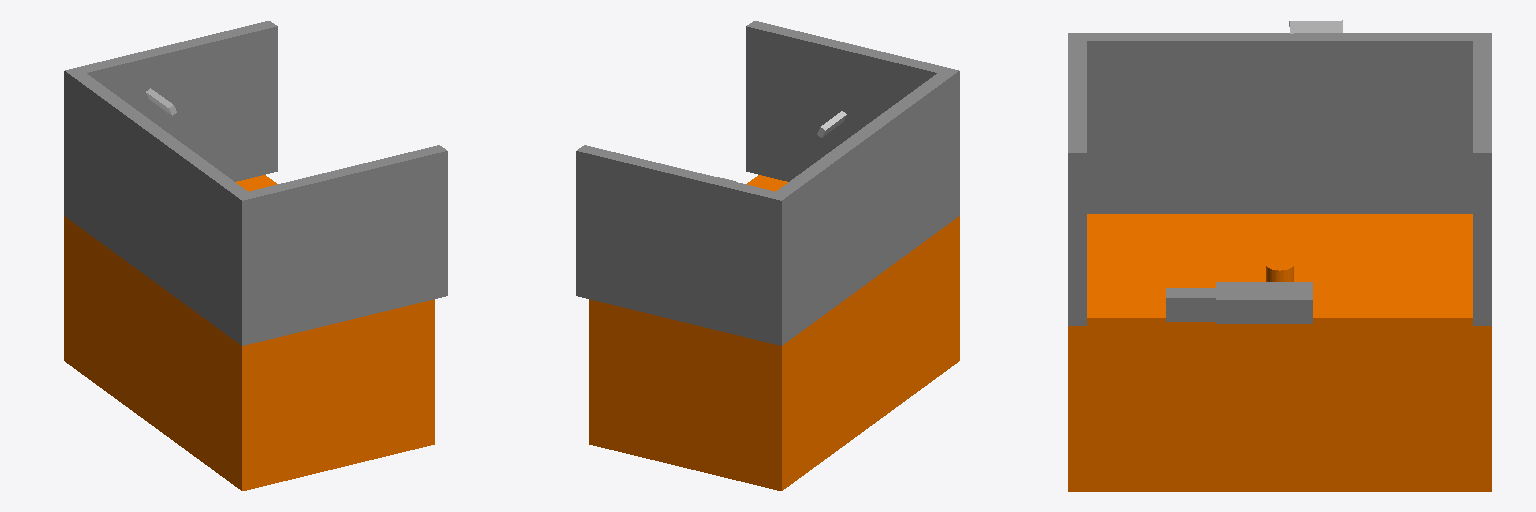
robot.urdf — ur5_workspace:
<?xml version="1.0" ?>
<!-- =================================================================================== -->
<!-- |    This document was autogenerated by xacro from ur5_workspace.xacro            | -->
<!-- |    EDITING THIS FILE BY HAND IS NOT RECOMMENDED                                 | -->
<!-- =================================================================================== -->
<robot name="ur5_workspace" xmlns:controller="http://playerstage.sourceforge.net/gazebo/xmlschema/#controller" xmlns:interface="http://playerstage.sourceforge.net/gazebo/xmlschema/#interface" xmlns:sensor="http://playerstage.sourceforge.net/gazebo/xmlschema/#sensor" xmlns:xacro="http://ros.org/wiki/xacro">
  <gazebo>
    <plugin filename="libgazebo_ros_controller_manager.so" name="gazebo_ros_controller_manager">
      <alwaysOn>true</alwaysOn>
      <updateRate>1000.0</updateRate>
    </plugin>
    <plugin filename="libgazebo_ros_power_monitor.so" name="gazebo_ros_power_monitor_controller">
      <alwaysOn>true</alwaysOn>
      <updateRate>1.0</updateRate>
      <timeout>5</timeout>
      <powerStateTopic>power_state</powerStateTopic>
      <powerStateRate>10.0</powerStateRate>
      <fullChargeCapacity>87.78</fullChargeCapacity>
      <dischargeRate>-474</dischargeRate>
      <chargeRate>525</chargeRate>
      <dischargeVoltage>15.52</dischargeVoltage>
      <chargeVoltage>16.41</chargeVoltage>
    </plugin>
  </gazebo>
  <material name="UR/Blue">
    <color rgba="0.0 0.0 0.8 1.0"/>
  </material>
  <material name="UR/Grey">
    <color rgba="0.7 0.7 0.7 1.0"/>
  </material>
  <material name="yellow_transparent">
    <color rgba="0 1 1 0.4"/>
  </material>
  <material name="orange_transparent">
    <color rgba="1 0.5 0 0.4"/>
  </material>
  <material name="gray_transparent">
    <color rgba="0.6 0.6 0.6 0.4"/>
  </material>
  <material name="blue_transparent">
    <color rgba="0 0.8 1 0.4"/>
  </material>
  <link name="world_frame"/>
  <!-- property list -->
  <!-- instantiating arm and gripper -->
  <link name="base_link">
    <visual>
      <geometry>
        <mesh filename="package://ur_description/meshes/ur5/visual/Base.dae"/>
      </geometry>
      <origin rpy="0.0 0.0 2.3561944875" xyz="0.0 0.0 0.003"/>
    </visual>
    <collision>
      <geometry>
        <mesh filename="package://ur_description/meshes/ur5/collision/Base.dae"/>
      </geometry>
      <!-- <origin rpy="0.0 0.0 0.0" xyz="0.0 0.0 -0.009159"/> -->
    </collision>
    <inertial>
      <mass value="4.0"/>
      <inertia ixx="1.0" ixy="0.0" ixz="0.0" iyy="1.0" iyz="0.0" izz="1.0"/>
    </inertial>
  </link>
  <joint name="shoulder_pan_joint" type="revolute">
    <parent link="base_link"/>
    <child link="shoulder_link"/>
    <origin rpy="0.0 0.0 0.0" xyz="0.0 0.0 0.089159"/>
    <axis xyz="0 0 1"/>
    <limit effort="10.0" lower="-6.2831853" upper="6.2831853" velocity="3.14159265"/>
    <dynamics damping="10" friction="0.1"/>
  </joint>
  <link name="shoulder_link">
    <visual>
      <geometry>
        <mesh filename="package://ur_description/meshes/ur5/visual/Shoulder.dae"/>
      </geometry>
    </visual>
    <collision>
      <geometry>
        <mesh filename="package://ur_description/meshes/ur5/collision/Shoulder.dae"/>
      </geometry>
      <!-- <origin rpy="0.0 0.0 0.0" xyz="0.0 0.0 -0.009159"/> -->
    </collision>
    <inertial>
      <mass value="3.7"/>
      <inertia ixx="1.0" ixy="0.0" ixz="0.0" iyy="1.0" iyz="0.0" izz="1.0"/>
      <origin rpy="0.0 0.0 0.0" xyz="0.0 0.00193 -0.02561"/>
    </inertial>
  </link>
  <joint name="shoulder_lift_joint" type="revolute">
    <parent link="shoulder_link"/>
    <child link="upper_arm_link"/>
    <origin rpy="0.0 1.570796325 0.0" xyz="0.0 0.13585 0.0"/>
    <axis xyz="0 1 0"/>
    <limit effort="10.0" lower="-6.2831853" upper="6.2831853" velocity="3.14159265"/>
    <dynamics damping="10" friction="0.1"/>
  </joint>
  <link name="upper_arm_link">
    <visual>
      <geometry>
        <mesh filename="package://ur_description/meshes/ur5/visual/UpperArm.dae"/>
      </geometry>
      <origin rpy="0.0 0.0 0.0" xyz="0.0 0.0 0.0"/>
    </visual>
    <collision>
      <geometry>
        <mesh filename="package://ur_description/meshes/ur5/collision/UpperArm.dae"/>
      </geometry>
      <!--       <origin rpy="0.0 0.0 0.0" xyz="0.0 0.0 0.2125"/> -->
    </collision>
    <inertial>
      <mass value="8.393"/>
      <inertia ixx="1.0" ixy="0.0" ixz="0.0" iyy="1.0" iyz="0.0" izz="1.0"/>
      <origin rpy="0.0 0.0 0.0" xyz="0.0 -0.024201 0.2125"/>
    </inertial>
  </link>
  <joint name="elbow_joint" type="revolute">
    <parent link="upper_arm_link"/>
    <child link="forearm_link"/>
    <origin rpy="0.0 0.0 0.0" xyz="0.0 -0.1197 0.425"/>
    <axis xyz="0 1 0"/>
    <limit effort="10.0" lower="-6.2831853" upper="6.2831853" velocity="3.14159265"/>
    <dynamics damping="10" friction="0.1"/>
  </joint>
  <link name="forearm_link">
    <visual>
      <geometry>
        <mesh filename="package://ur_description/meshes/ur5/visual/Forearm.dae"/>
      </geometry>
    </visual>
    <collision>
      <geometry>
        <mesh filename="package://ur_description/meshes/ur5/collision/Forearm.dae"/>
      </geometry>
      <!--       <origin rpy="0.0 0.0 0.0" xyz="0.0 0.0 0.196125"/> -->
    </collision>
    <inertial>
      <mass value="2.275"/>
      <origin rpy="0.0 0.0 0.0" xyz="0.0 0.0265 0.11993"/>
      <inertia ixx="1.0" ixy="0.0" ixz="0.0" iyy="1.0" iyz="0.0" izz="1.0"/>
    </inertial>
  </link>
  <joint name="wrist_1_joint" type="revolute">
    <parent link="forearm_link"/>
    <child link="wrist_1_link"/>
    <origin rpy="0.0 1.570796325 0.0" xyz="0.0 0.0 0.39225"/>
    <axis xyz="0 1 0"/>
    <limit effort="10.0" lower="-3.14159265" upper="0.7853981625" velocity="3.14159265"/>
    <dynamics damping="10" friction="0.1"/>
  </joint>
  <link name="wrist_1_link">
    <visual>
      <geometry>
        <mesh filename="package://ur_description/meshes/ur5/visual/Wrist1.dae"/>
      </geometry>
      <origin rpy="0.0 1.570796325 0.0" xyz="0.0 0.093 0.0"/>
    </visual>
    <collision>
      <geometry>
        <mesh filename="package://ur_description/meshes/ur5/collision/Wrist1.dae"/>
      </geometry>
      <origin rpy="0.0 1.570796325 0.0" xyz="0.0 0.093 0.0"/>
    </collision>
    <inertial>
      <mass value="1.219"/>
      <origin rpy="0.0 0.0 0.0" xyz="0.0 0.110949 0.01634"/>
      <inertia ixx="1.0" ixy="0.0" ixz="0.0" iyy="1.0" iyz="0.0" izz="1.0"/>
    </inertial>
  </link>
  <joint name="wrist_2_joint" type="revolute">
    <parent link="wrist_1_link"/>
    <child link="wrist_2_link"/>
    <origin rpy="0.0 0.0 0.0" xyz="0.0 0.093 0.0"/>
    <axis xyz="0 0 1"/>
    <limit effort="10.0" lower="-3.14159265" upper="3.14159265" velocity="3.14159265"/>
    <dynamics damping="10" friction="0.1"/>
  </joint>
  <link name="wrist_2_link">
    <visual>
      <geometry>
        <mesh filename="package://ur_description/meshes/ur5/visual/Wrist2.dae"/>
      </geometry>
      <origin rpy="0.0 0.0 0.0" xyz="0.0 0.0 0.09465"/>
    </visual>
    <collision>
      <geometry>
        <mesh filename="package://ur_description/meshes/ur5/collision/Wrist2.dae"/>
      </geometry>
      <origin rpy="0.0 0.0 0.0" xyz="0.0 0.0 0.09465"/>
    </collision>
    <inertial>
      <mass value="1.219"/>
      <origin rpy="0.0 0.0 0.0" xyz="0.0 0.0018 0.11099"/>
      <inertia ixx="1.0" ixy="0.0" ixz="0.0" iyy="1.0" iyz="0.0" izz="1.0"/>
    </inertial>
  </link>
  <joint name="wrist_3_joint" type="revolute">
    <parent link="wrist_2_link"/>
    <child link="wrist_3_link"/>
    <origin rpy="0.0 0.0 0.0" xyz="0.0 0.0 0.09465"/>
    <axis xyz="0 1 0"/>
    <limit effort="10.0" lower="-3.14159265" upper="3.14159265" velocity="3.14159265"/>
    <dynamics damping="10" friction="0.1"/>
  </joint>
  <link name="wrist_3_link">
    <visual>
      <geometry>
        <mesh filename="package://ur_description/meshes/ur5/visual/Wrist3.dae"/>
      </geometry>
    </visual>
    <collision>
      <geometry>
        <mesh filename="package://ur_description/meshes/ur5/collision/Wrist3.dae"/>
      </geometry>
    </collision>
    <inertial>
      <mass value="0.1879"/>
      <origin rpy="0.0 0.0 0.0" xyz="0.0 0.001159 0.0"/>
      <inertia ixx="1.0" ixy="0.0" ixz="0.0" iyy="1.0" iyz="0.0" izz="1.0"/>
    </inertial>
  </link>
  <joint name="ee_fixed_joint" type="fixed">
    <parent link="wrist_3_link"/>
    <child link="ee_link"/>
    <origin rpy="0.0 0.0 1.570796325" xyz="0.0 0.0823 0.0"/>
  </joint>
  <link name="ee_link"/>
  <transmission name="shoulder_pan_trans" type="pr2_mechanism_model/SimpleTransmission">
    <actuator name="shoulder_pan_motor"/>
    <joint name="shoulder_pan_joint"/>
    <mechanicalReduction>1</mechanicalReduction>
  </transmission>
  <transmission name="shoulder_lift_trans" type="pr2_mechanism_model/SimpleTransmission">
    <actuator name="shoulder_lift_motor"/>
    <joint name="shoulder_lift_joint"/>
    <mechanicalReduction>1</mechanicalReduction>
  </transmission>
  <transmission name="elbow_trans" type="pr2_mechanism_model/SimpleTransmission">
    <actuator name="elbow_motor"/>
    <joint name="elbow_joint"/>
    <mechanicalReduction>1</mechanicalReduction>
  </transmission>
  <transmission name="wrist_1_trans" type="pr2_mechanism_model/SimpleTransmission">
    <actuator name="wrist_1_motor"/>
    <joint name="wrist_1_joint"/>
    <mechanicalReduction>1</mechanicalReduction>
  </transmission>
  <transmission name="wrist_2_trans" type="pr2_mechanism_model/SimpleTransmission">
    <actuator name="wrist_2_motor"/>
    <joint name="wrist_2_joint"/>
    <mechanicalReduction>1</mechanicalReduction>
  </transmission>
  <transmission name="wrist_3_trans" type="pr2_mechanism_model/SimpleTransmission">
    <actuator name="wrist_3_motor"/>
    <joint name="wrist_3_joint"/>
    <mechanicalReduction>1</mechanicalReduction>
  </transmission>
  <gazebo reference="universal_robot">
    <material>Gazebo/Blue</material>
  </gazebo>
  <link name="gripper_frame"/>
  <link name="gripper_body">
    <visual>
      <!--origin xyz="0 0.036 -0.0473" rpy="0 0 0"/-->
      <!--geometry>
					<box size="${gripper_length} ${gripper_width} ${gripper_height}"/>
				</geometry-->
      <origin rpy="0 0 0" xyz="0 0 -0.048"/>
      <geometry>
        <mesh filename="package://robot_config/meshes/vacuum_gripper_single_suction_cup.STL"/>
      </geometry>
      <material name="silver">
        <color rgba="0.8 0.8 0.8 1"/>
      </material>
    </visual>
    <collision>
      <geometry>
        <box size="0.044 0.088 0.0946"/>
      </geometry>
      <material name="another_blue2">
        <color rgba="0.38 0.54 0.83 1"/>
      </material>
    </collision>
  </link>
  <link name="tcp_frame"/>
  <joint name="gripper_to_palm" type="fixed">
    <parent link="gripper_frame"/>
    <child link="gripper_body"/>
    <origin rpy="0 0 0" xyz="0 0 0.0473"/>
  </joint>
  <joint name="gripper_to_tcp" type="fixed">
    <parent link="gripper_frame"/>
    <child link="tcp_frame"/>
    <origin rpy="0 0 0" xyz=" 0 0.022 0.13"/>
  </joint>
  <!-- instantiating workcell definitions -->
  <link name="table_base2">
    <visual>
      <origin rpy="0 0 0" xyz="0 0 -0.5"/>
      <geometry>
        <box size="1.3875 2.22 1"/>
      </geometry>
      <material name="orange_transparent"/>
    </visual>
    <collision>
      <origin rpy="0 0 0" xyz="0 0 -0.5"/>
      <geometry>
        <box size="1.3875 2.22 1"/>
      </geometry>
      <material name="blue_transparent"/>
    </collision>
  </link>
  <joint name="workcell_to_table_base2" type="fixed">
    <parent link="world_frame"/>
    <child link="table_base2"/>
    <origin rpy="0 0 0" xyz="-0.69375 0 0"/>
  </joint>
  <link name="front_wall2">
    <visual>
      <geometry>
        <box size="0.1 2.22 1"/>
      </geometry>
      <material name="gray_transparent"/>
    </visual>
    <collision>
      <geometry>
        <box size="0.1 2.22 1"/>
      </geometry>
      <material name="blue_transparent"/>
    </collision>
  </link>
  <joint name="world_frame_to_front_wall2" type="fixed">
    <parent link="world_frame"/>
    <child link="front_wall2"/>
    <origin rpy="0 0 0" xyz="-1.3375 0 0.5"/>
  </joint>
  <link name="left_wall2">
    <visual>
      <geometry>
        <box size="1.384 0.1 1"/>
      </geometry>
      <material name="gray_transparent"/>
    </visual>
    <collision>
      <geometry>
        <box size="1.384 0.1 1"/>
      </geometry>
      <material name="blue_transparent"/>
    </collision>
  </link>
  <joint name="world_frame_to_left_wall2" type="fixed">
    <parent link="world_frame"/>
    <child link="left_wall2"/>
    <origin rpy="0 0 0" xyz="-0.601 1.06 0.5"/>
  </joint>
  <link name="right_wall2">
    <visual>
      <geometry>
        <box size="1.384 0.1 1"/>
      </geometry>
      <material name="gray_transparent"/>
    </visual>
    <collision>
      <geometry>
        <box size="1.384 0.1 1"/>
      </geometry>
      <material name="blue_transparent"/>
    </collision>
  </link>
  <joint name="world_frame_to_right_wall2" type="fixed">
    <parent link="world_frame"/>
    <child link="right_wall2"/>
    <origin rpy="0 0 0" xyz="-0.601 -1.06 0.5"/>
  </joint>
  <link name="cover_part1">
    <visual>
      <geometry>
        <box size="0.229 0.508 0.14"/>
      </geometry>
      <material name="gray_transparent"/>
    </visual>
    <collision>
      <geometry>
        <box size="0.229 0.508 0.14"/>
      </geometry>
      <material name="blue_transparent"/>
    </collision>
  </link>
  <joint name="world_frame_to_cover_part1" type="fixed">
    <parent link="world_frame"/>
    <child link="cover_part1"/>
    <origin rpy="0 0 0" xyz="-0.042 -0.081 0.07"/>
  </joint>
  <link name="cover_part2">
    <visual>
      <geometry>
        <box size="0.121 0.26 0.14"/>
      </geometry>
      <material name="gray_transparent"/>
    </visual>
    <collision>
      <geometry>
        <box size="0.121 0.26 0.14"/>
      </geometry>
      <material name="blue_transparent"/>
    </collision>
  </link>
  <joint name="world_frame_to_cover_part2" type="fixed">
    <parent link="world_frame"/>
    <child link="cover_part2"/>
    <origin rpy="0 0 0" xyz="-0.012 -0.465 0.07"/>
  </joint>
  <!-- end of workcell definitions -->
  <!-- arm-workcell link definitions -->
  <link name="ur5_stand">
    <visual>
      <geometry>
        <cylinder length="0.2" radius="0.0735"/>
      </geometry>
      <material name="orange_transparent"/>
    </visual>
    <collision>
      <geometry>
        <cylinder length="0.2" radius="0.0735"/>
      </geometry>
      <material name="blue_transparent"/>
    </collision>
  </link>
  <!-- instantiating sensor definitions -->
  <material name="color_b">
    <color rgba="0 0.8 1 0.4"/>
  </material>
  <material name="color_a">
    <color rgba="0.8 0.2 1 0.2"/>
  </material>
  <material name="silver">
    <color rgba="0.6 0.6 0.6 1"/>
  </material>
  <link name="kinect_link">
    <collision>
      <material name="color_a"/>
      <geometry>
        <box size="0.36 0.28 0.22"/>
      </geometry>
    </collision>
  </link>
  <link name="kinect_keepout">
    <!--collision>
				<material name="${prefix}color_b"/>
				<geometry>
					<box size="0.2 0.32 ${z_val + 0.08}"/>
				</geometry>
			</collision-->
  </link>
  <link name="kinect_frame">
    <visual>
      <origin rpy="0 0 0" xyz="0 0 0"/>
      <geometry>
        <box size="0.064 0.28 0.04"/>
      </geometry>
      <material name="silver"/>
    </visual>
    <collision>
      <origin rpy="0 0 0" xyz="0 0 0"/>
      <geometry>
        <box size="0.064 0.28 0.04"/>
      </geometry>
    </collision>
  </link>
  <link name="kinect_ir_link">
    <visual>
      <origin rpy="0 0 0" xyz="0 0 0"/>
      <geometry>
        <sphere radius="0.0005"/>
      </geometry>
    </visual>
  </link>
  <link name="kinect_rgb_link">
    <visual>
      <origin rpy="0 0 0" xyz="0 0 0"/>
      <geometry>
        <sphere radius="0.0005"/>
      </geometry>
    </visual>
  </link>
  <link name="kinect_ir_optical_frame"/>
  <link name="kinect_rgb_optical_frame"/>
  <joint name="kinect_frame_joint" type="fixed">
    <parent link="kinect_link"/>
    <child link="kinect_frame"/>
    <origin rpy="0 0 0" xyz="0 0 0"/>
  </joint>
  <joint name="kinect_ir_joint" type="fixed">
    <parent link="kinect_frame"/>
    <child link="kinect_ir_link"/>
    <origin rpy="0 0 0" xyz="0 0 0"/>
  </joint>
  <joint name="kinect_ir_optical_frame_joint" type="fixed">
    <parent link="kinect_ir_link"/>
    <child link="kinect_ir_optical_frame"/>
    <origin rpy="-1.57 0 -1.57" xyz="0 0 0"/>
  </joint>
  <joint name="kinect_rgb_joint" type="fixed">
    <parent link="kinect_ir_link"/>
    <child link="kinect_rgb_link"/>
    <origin rpy="0 0 0" xyz="0 -0.03 0"/>
  </joint>
  <joint name="kinect_rgb_optical_frame_joint" type="fixed">
    <parent link="kinect_rgb_link"/>
    <child link="kinect_rgb_optical_frame"/>
    <origin rpy="-1.57 0 -1.57" xyz="0 0 0"/>
  </joint>
  <joint name="ur5_stand_to_kinect_link" type="fixed">
    <parent link="ur5_stand"/>
    <child link="kinect_link"/>
    <origin rpy="0.019 1.145 0.035" xyz="-0.981 0.19 1.015"/>
  </joint>
  <joint name="ur5_stand_to_kinect_keepout" type="fixed">
    <parent link="ur5_stand"/>
    <child link="kinect_keepout"/>
    <origin rpy="0 0 0.035" xyz="-0.981 0.19 0.5475"/>
  </joint>
  <!-- end of sensor definitions -->
  <joint name="world_to_stand" type="fixed">
    <parent link="world_frame"/>
    <child link="ur5_stand"/>
    <origin xyz="-0.238 0 0.1"/>
  </joint>
  <!-- end of arm-workcell link definitions -->
  <!-- arm-workcell joint definitions -->
  <joint name="stand_to_base" type="fixed">
    <parent link="ur5_stand"/>
    <child link="base_link"/>
    <origin rpy="0 0 2.355" xyz="0 0 0.1"/>
  </joint>
  <!-- end of arm workcell joint definitions-->
  <!-- arm-gripper coupling joint definitions -->
  <joint name="to_gripper" type="fixed">
    <parent link="ee_link"/>
    <child link="gripper_frame"/>
    <origin rpy="-1.57 0 -1.57" xyz="0 0 0"/>
    <!-- 0 1.57 0 -->
  </joint>
  <!-- end of arm-gripper coupling joint definitions -->
</robot>

--- What the picture shows (computed from the rendered views, not written in the file) ---
The picture shows the robot from 3 angles, left to right: view 1: azimuth 30°, elevation 25°; view 2: azimuth 150°, elevation 25°; view 3: azimuth 270°, elevation 25°; orthographic projection.
Robot: ur5_workspace — 26 links, 25 joints (6 revolute, 19 fixed); root link world_frame; default pose: all joints at 0.
Links seen in each view (by area): view 1: table_base2, front_wall2, right_wall2, left_wall2; view 2: table_base2, front_wall2, left_wall2, right_wall2; view 3: table_base2, front_wall2, left_wall2, right_wall2, cover_part1, cover_part2, kinect_frame, ur5_stand.
Link boxes in pixels (bbox=[...]): table_base2: bbox=[64, 175, 434, 490]; front_wall2: bbox=[64, 67, 255, 345]; right_wall2: bbox=[249, 145, 447, 342]; left_wall2: bbox=[79, 21, 277, 181]; table_base2: bbox=[589, 175, 959, 490]; front_wall2: bbox=[768, 67, 959, 345]; left_wall2: bbox=[576, 145, 774, 342]; right_wall2: bbox=[746, 21, 944, 181]; table_base2: bbox=[1068, 214, 1491, 491]; front_wall2: bbox=[1068, 33, 1491, 213]; left_wall2: bbox=[1473, 41, 1491, 325]; right_wall2: bbox=[1068, 41, 1086, 325]; cover_part1: bbox=[1216, 282, 1312, 323]; cover_part2: bbox=[1166, 288, 1215, 321]; kinect_frame: bbox=[1289, 20, 1342, 33]; ur5_stand: bbox=[1266, 259, 1293, 281].
Bounding box of the posed robot: 1.48 × 2.22 × 2.15 m (x, y, z).
Meshes: 8 distinct files referenced, 0 mesh visuals loaded (none loaded); not drawn: 8 (reference not matched to a file when rendering).
